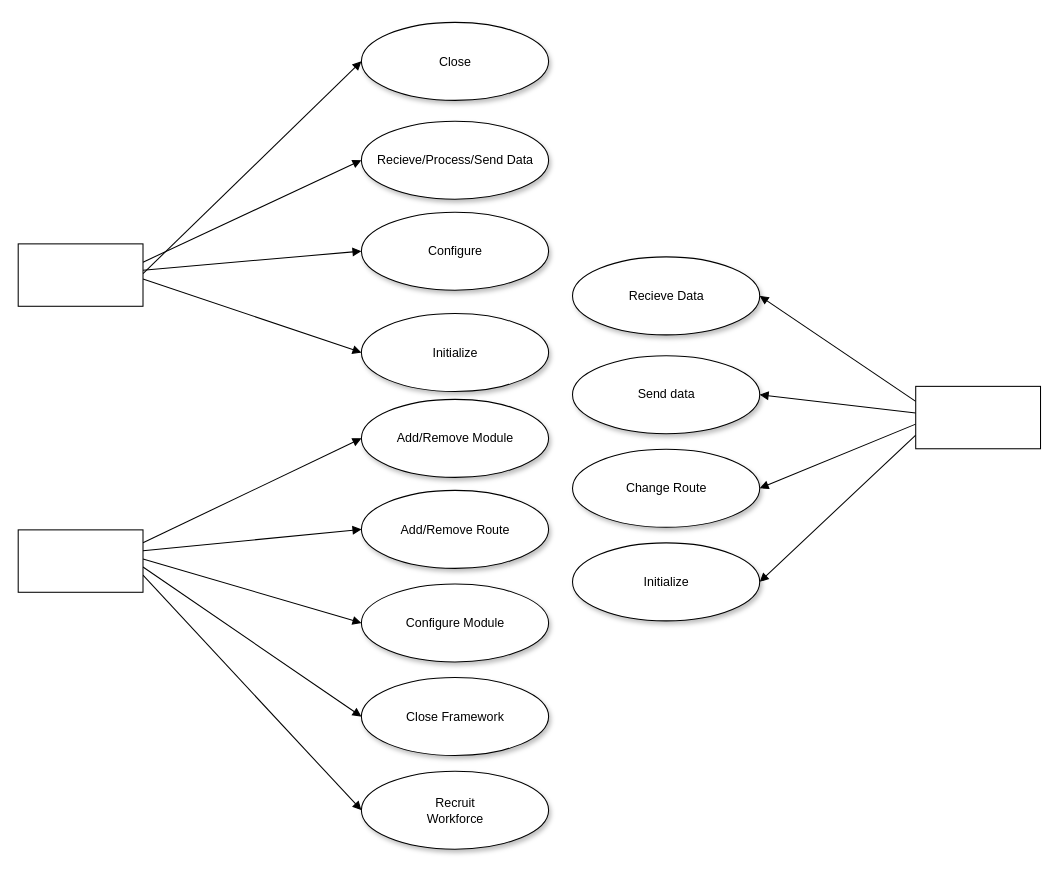
This 1059x875 diagram has some shape labels left out. Each missing label, with the centre of its shape:
Framework: the point at 80,560
Module: the point at 80,274
Route: the point at 978,417
